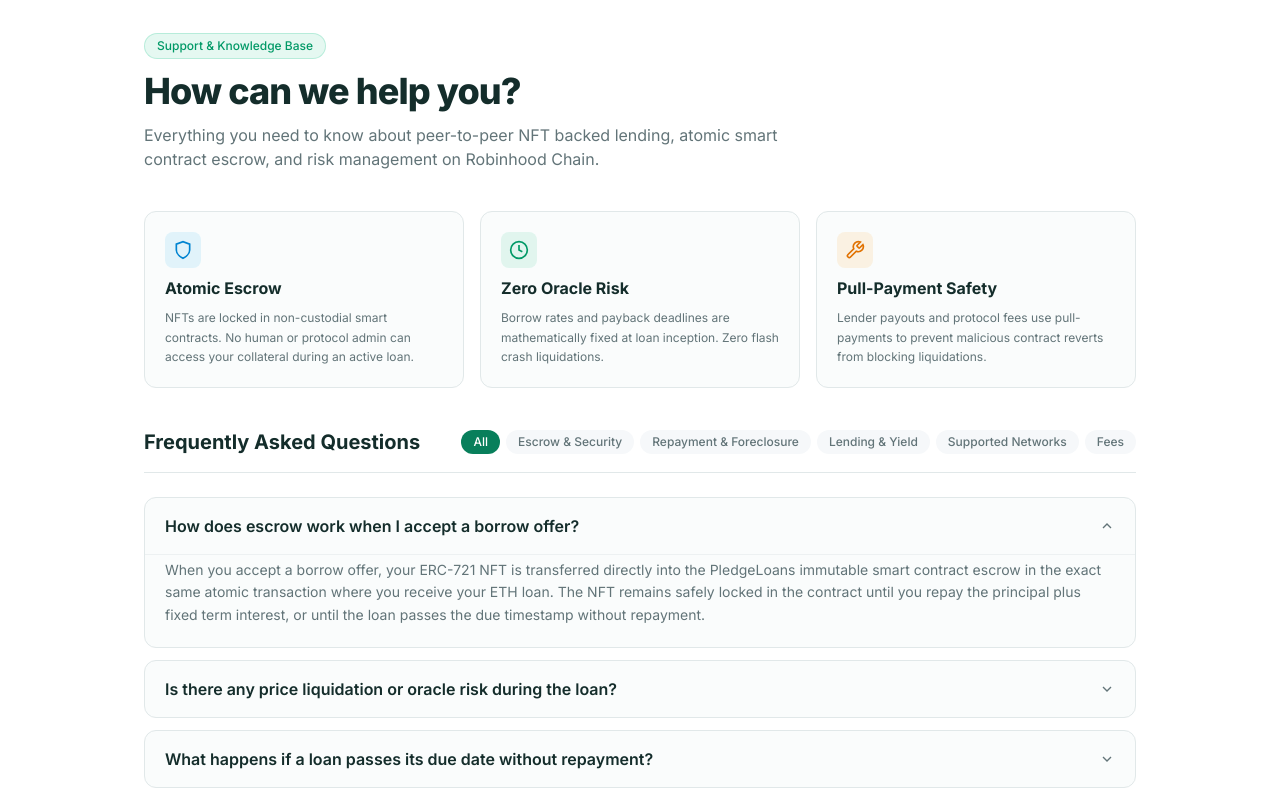
Scenario: SupportPage Component › filters FAQ items when category buttons are clicked
The width and height of the screenshot is (1280, 800).
Expected: the text "How does escrow work when I accept a borrow offer?" is shown, [165,514,579,538]
Click the button "Fees" at x=1110, y=442, box [1085,430,1136,454]
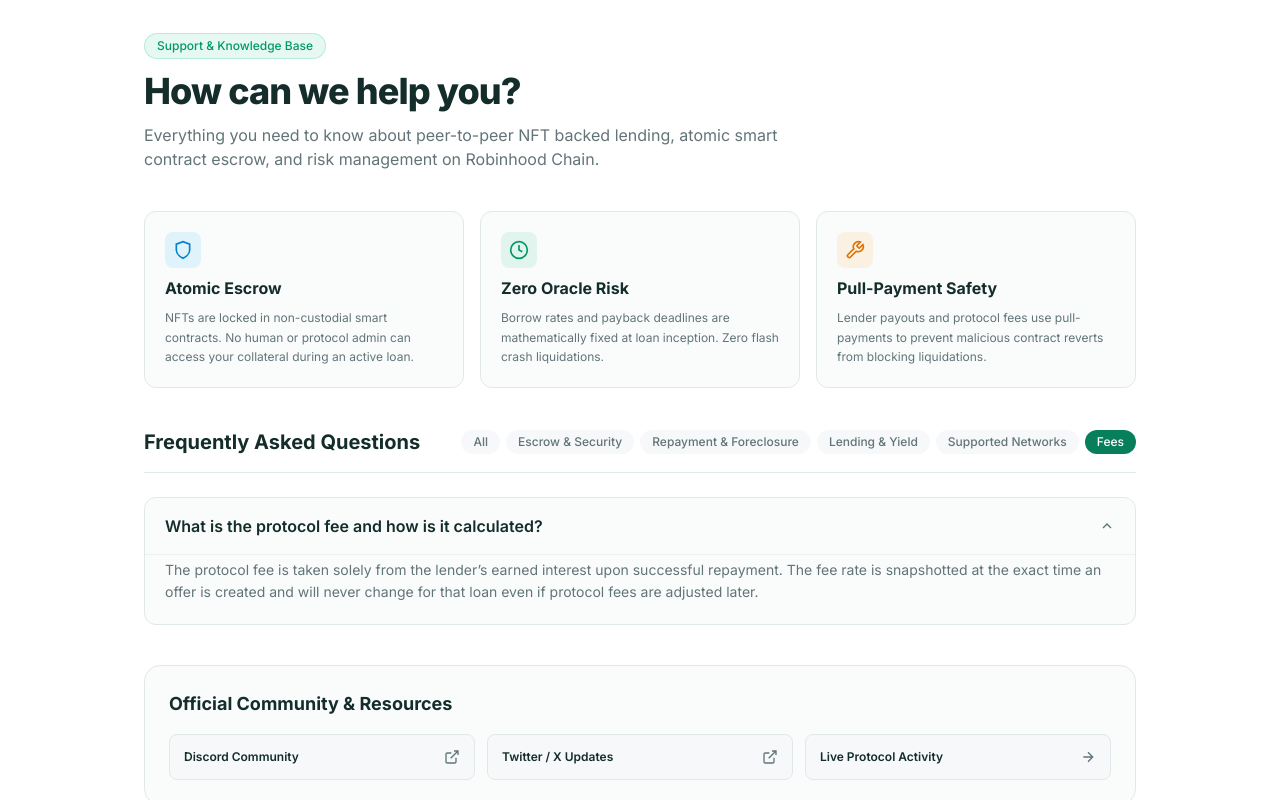
Expected: the text "What is the protocol fee and how is it calculated?" is shown, [165,514,543,538]
Expected: the button "How does escrow work when I accept a borrow offer?" is gone
